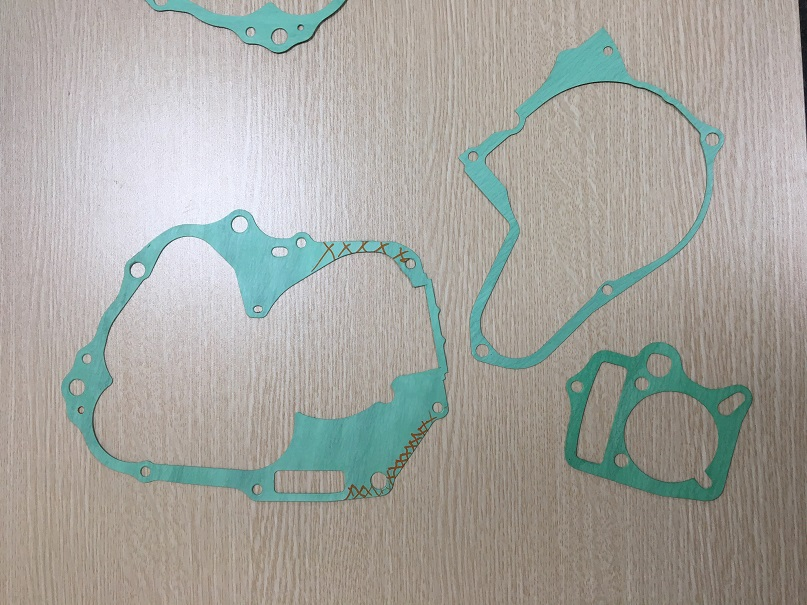type1: (446, 23, 727, 372)
type3: (53, 205, 452, 507)
type4: (559, 341, 756, 510)
